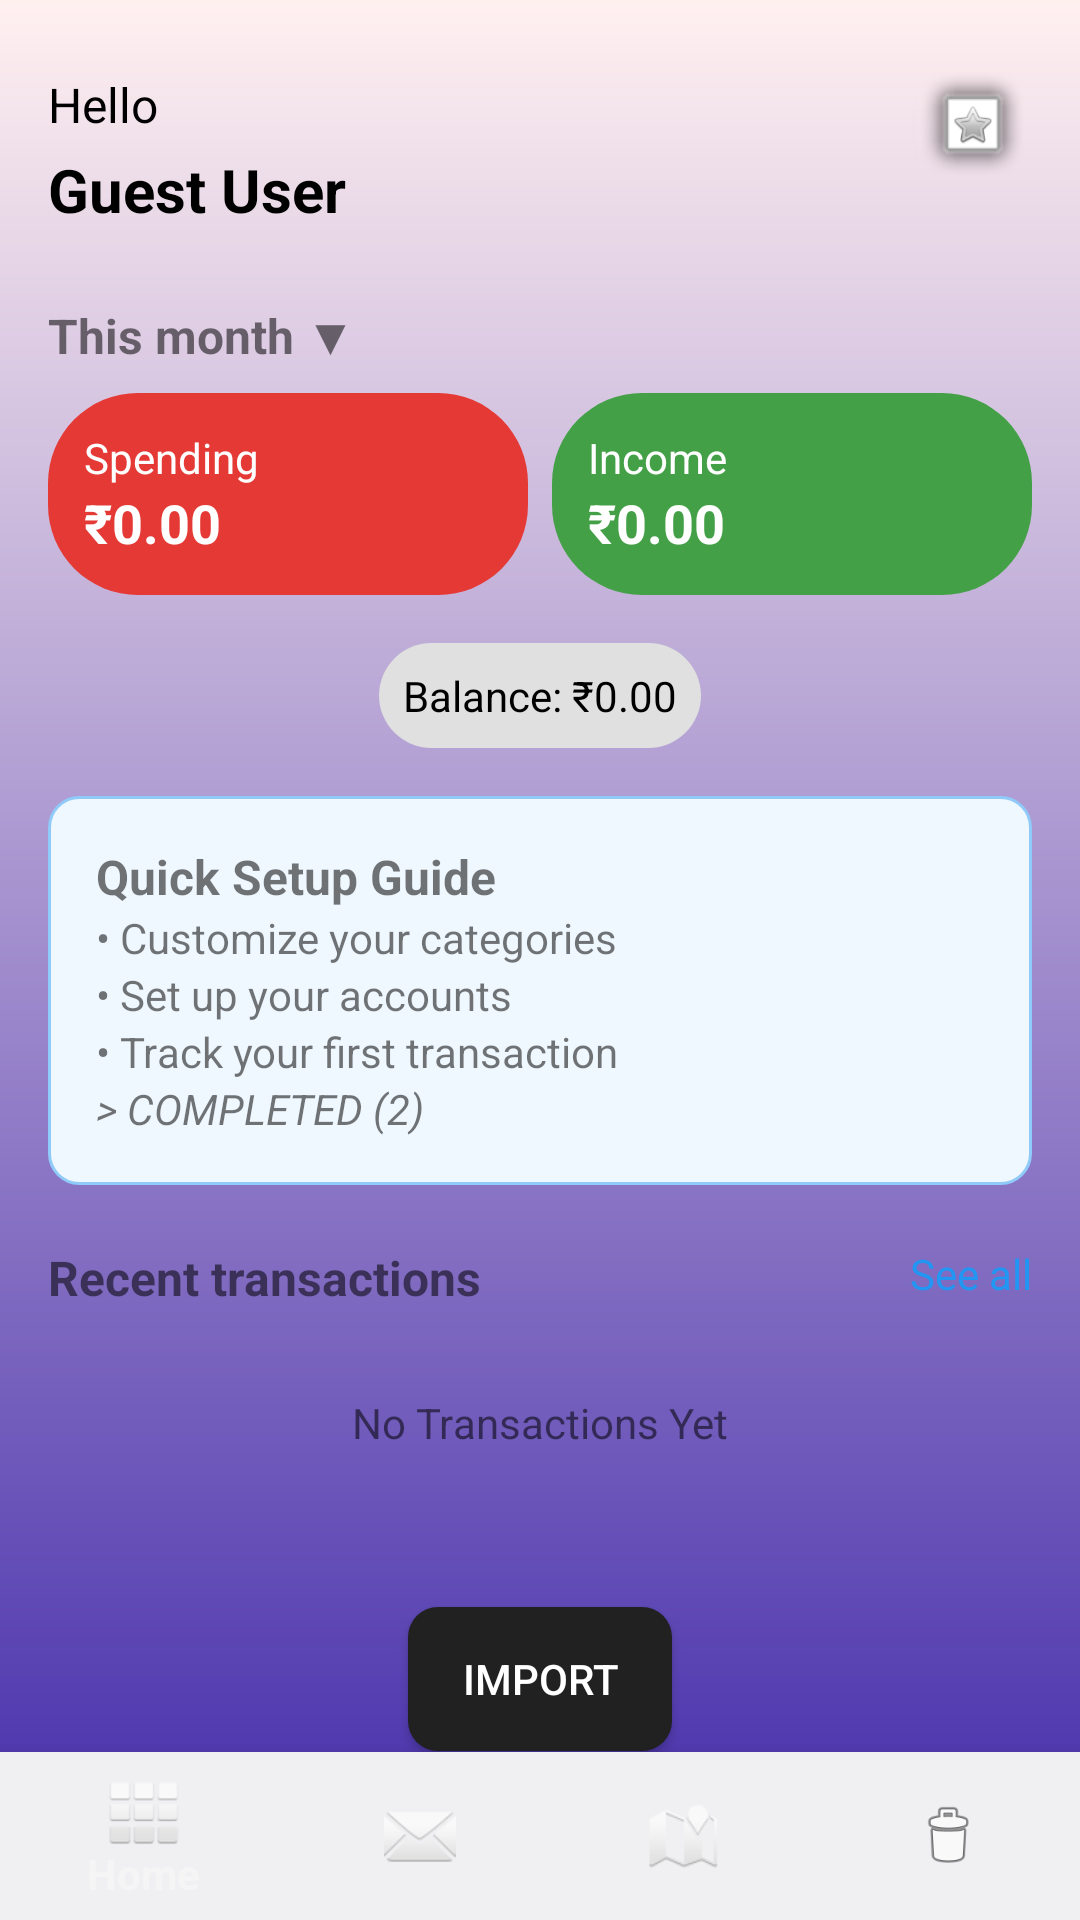

Screen size 1080x1920. Icon name, then its center in pixels as [x,y]:
star: [972,125]
